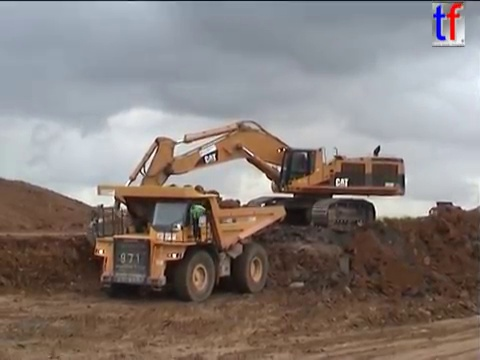excavator: (84, 117, 408, 254)
truck: (88, 182, 287, 303), (428, 200, 466, 222)
worker: (185, 196, 207, 241)
